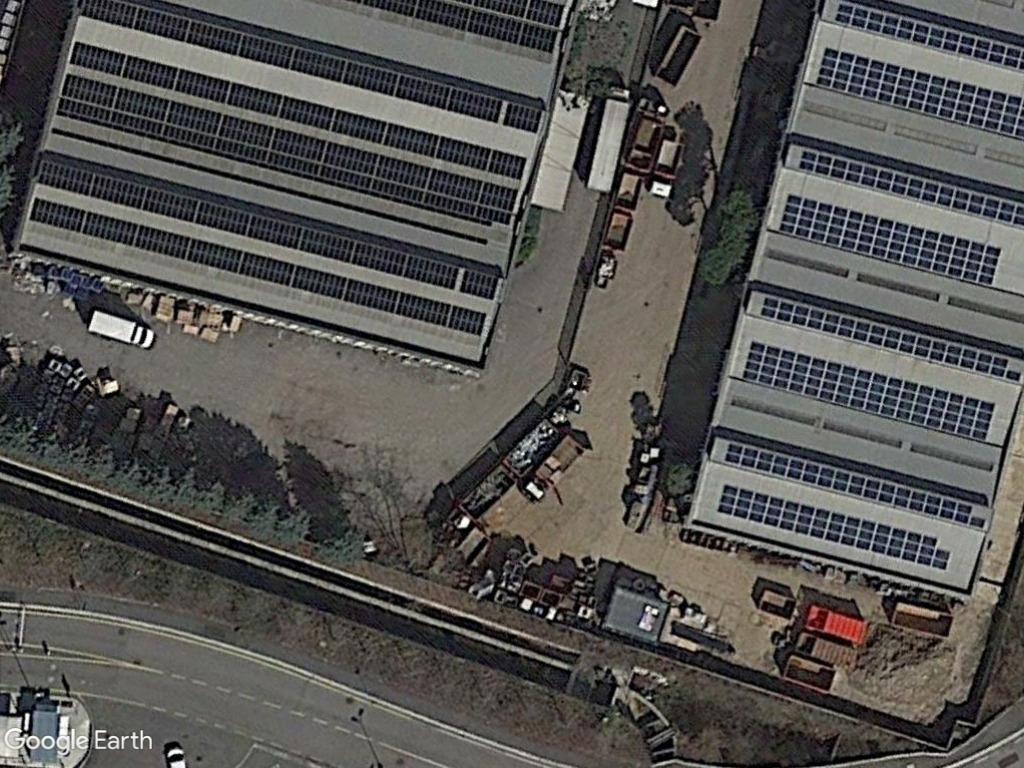longvehicle: (580, 79, 638, 198)
other: (649, 132, 691, 202)
truck: (83, 305, 159, 354)
